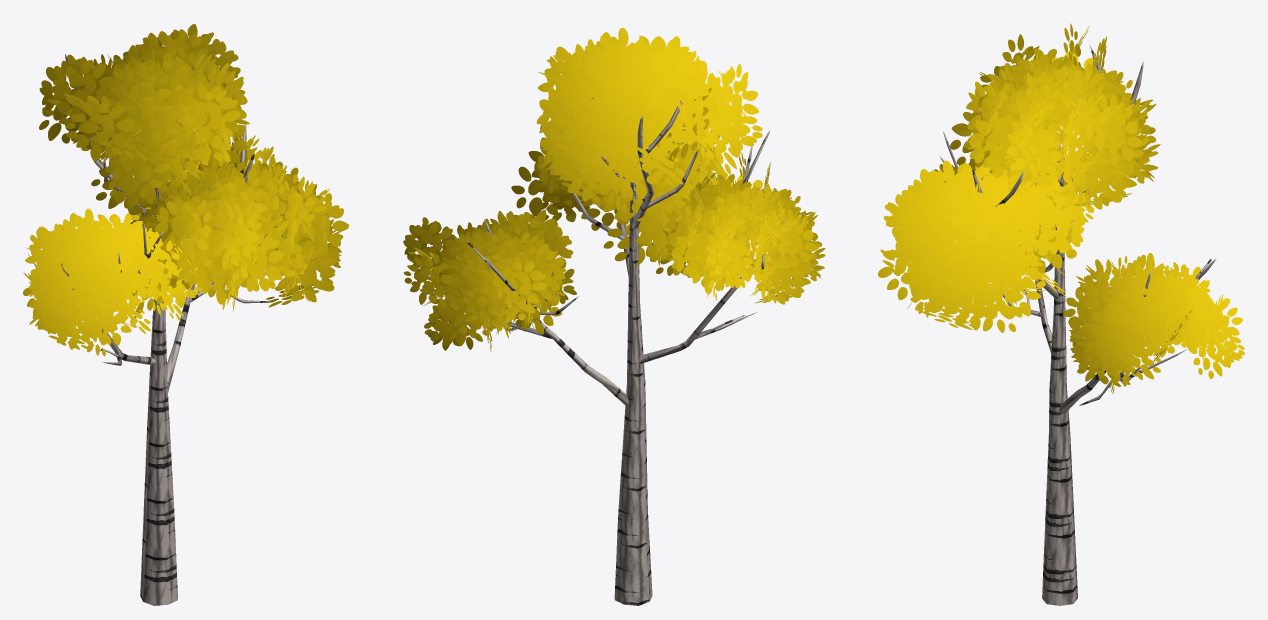
The model's file is birch_3.glb.
3 renders of one model, left to right at view 1: azimuth 30°, elevation 25°; view 2: azimuth 150°, elevation 25°; view 3: azimuth 270°, elevation 25°, orthographic. The views are drawn at different scales.
Parts seen in each view (by area): view 1: BirchTree_5; view 2: BirchTree_5; view 3: BirchTree_5.
Boxes of the visible parts, x1,y1,x2,y2 form: BirchTree_5: (23,23,348,605); BirchTree_5: (403,28,825,605); BirchTree_5: (878,23,1244,605).
Bounding box in the file's own units: 3.58 × 5.52 × 3.51.
2 materials, 2 textured.
